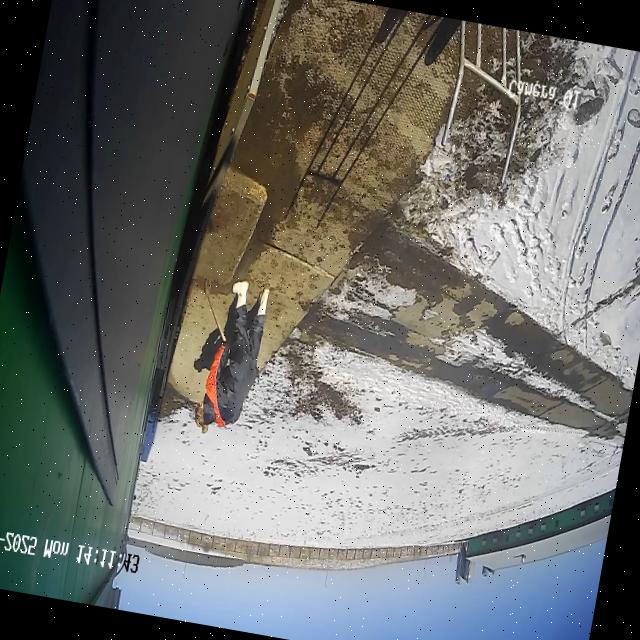Red uniform: (188, 273, 275, 442)
